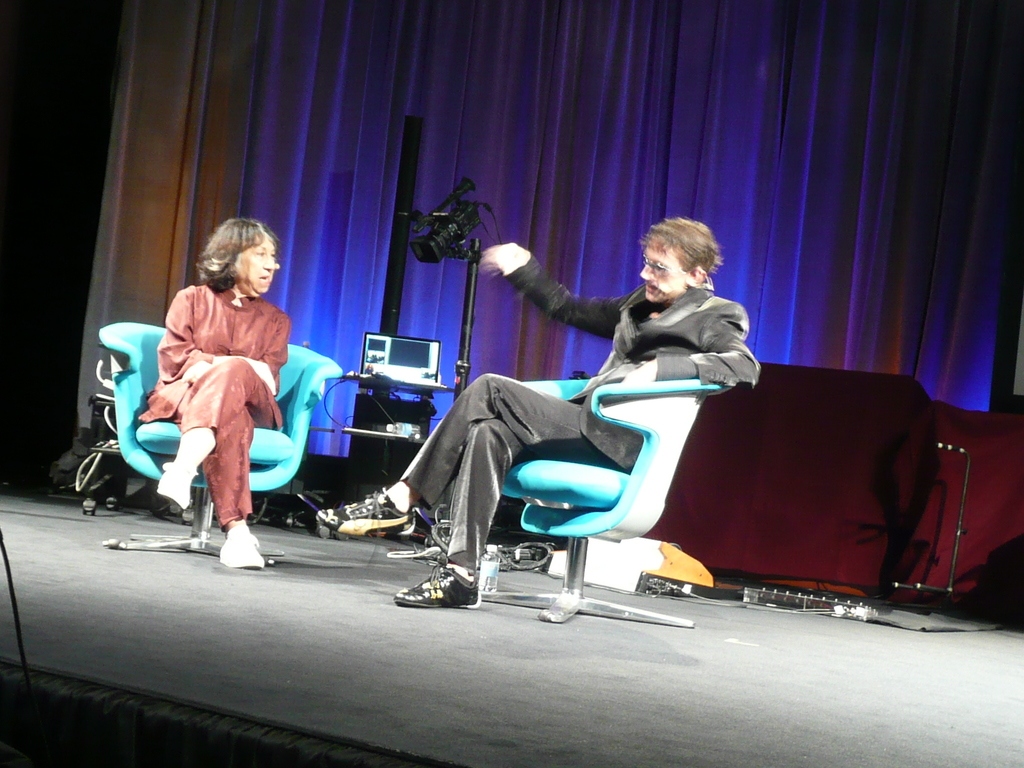Footwear: (399, 549, 477, 619), (319, 487, 417, 538), (156, 463, 202, 511), (221, 524, 266, 570)
